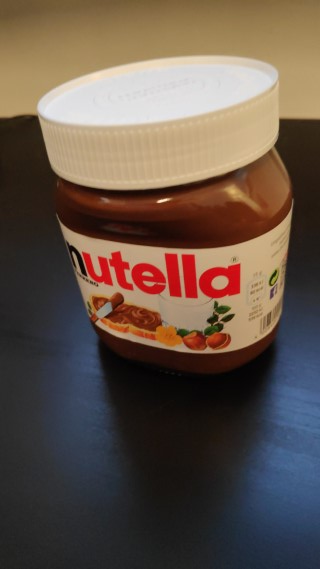nutella: (35, 53, 296, 376)
